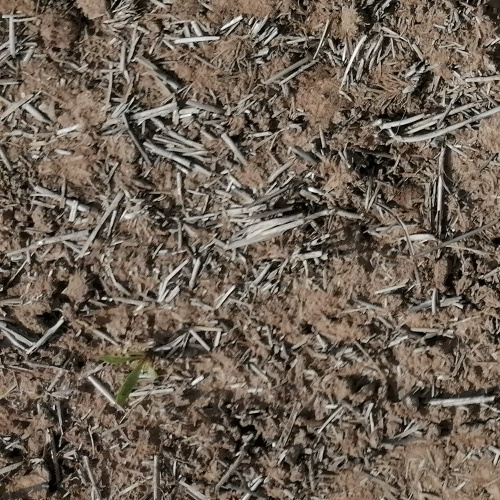beet: (111, 350, 149, 411)
